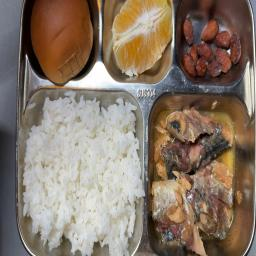100_bread: (31, 0, 93, 83)
100_fish: (151, 112, 235, 243)
100_orange: (112, 0, 172, 71)
100_rice: (23, 92, 143, 255)
50_nuts: (189, 19, 241, 77)
